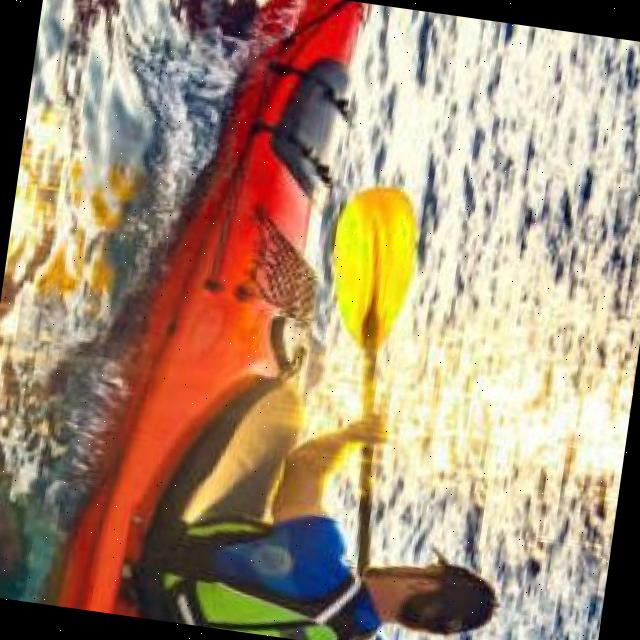kayak: (59, 0, 364, 627)
